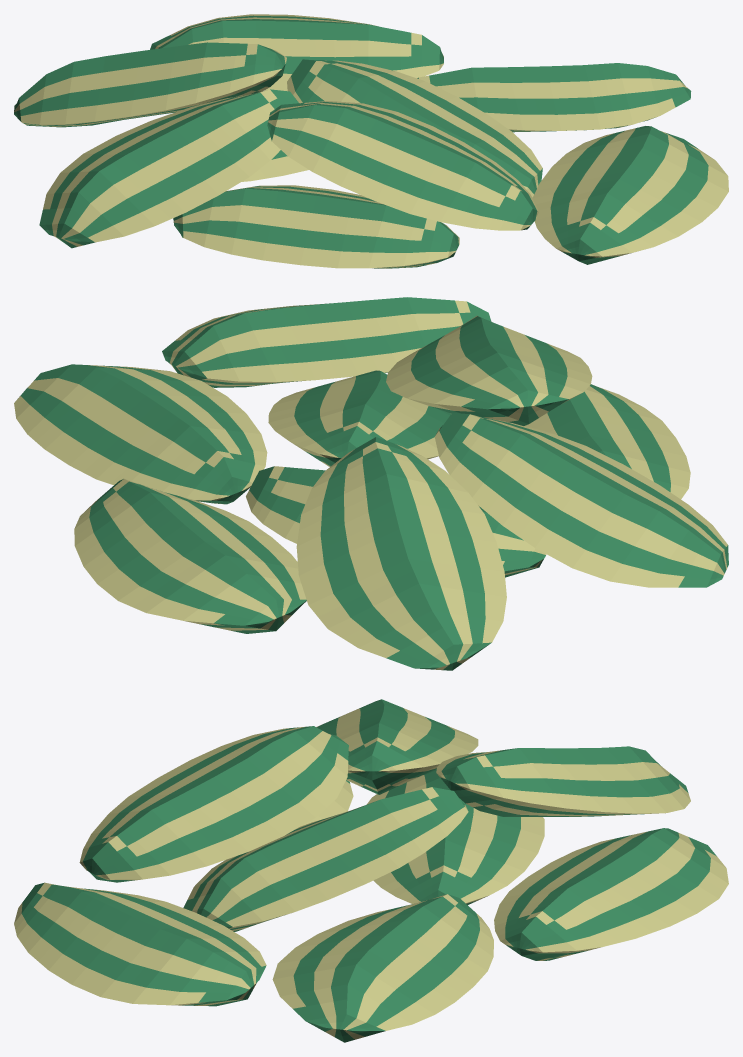
File: Sunflower.fbx
3 views of the same model, one above another, from view 1: azimuth 30°, elevation 25°; view 2: azimuth 150°, elevation 25°; view 3: azimuth 270°, elevation 25° (orthographic). The views are drawn at different scales.
Parts seen in each view (by area): view 1: Cube.002, Cube.005, Cube.008, Cube.001, Cube.004, Cube.007, Cube.003, Cube.006, Sunflower; view 2: Cube.004, Cube.002, Cube.007, Cube.006, Cube.008, Cube.005, Cube.003, Cube.001, Sunflower; view 3: Cube.005, Cube.008, Cube.007, Cube.006, Cube.003, Cube.004, Sunflower, Cube.002, Cube.001.
Part boxes in pixels (x1,y1,x2,y2): Cube.002: (39, 89, 298, 248); Cube.005: (267, 101, 538, 230); Cube.008: (532, 126, 728, 264); Cube.001: (173, 185, 459, 268); Cube.004: (14, 42, 286, 127); Cube.007: (417, 63, 691, 132); Cube.003: (287, 59, 542, 197); Cube.006: (150, 14, 443, 91); Sunflower: (242, 150, 308, 181); Cube.004: (296, 437, 506, 670); Cube.002: (434, 412, 728, 587); Cube.007: (14, 364, 267, 504); Cube.006: (74, 478, 306, 633); Cube.008: (162, 297, 491, 387); Cube.005: (386, 315, 592, 425); Cube.003: (268, 370, 450, 466); Cube.001: (525, 384, 690, 499); Sunflower: (246, 466, 546, 577); Cube.005: (79, 726, 348, 882); Cube.008: (14, 882, 266, 1006); Cube.007: (272, 894, 493, 1042); Cube.006: (494, 828, 728, 960); Cube.003: (183, 787, 468, 931); Cube.004: (436, 746, 690, 816); Sunflower: (367, 769, 544, 904); Cube.002: (316, 699, 478, 794); Cube.001: (301, 780, 353, 826).
Size of the model in its own units: 411 by 78.29 by 392.
